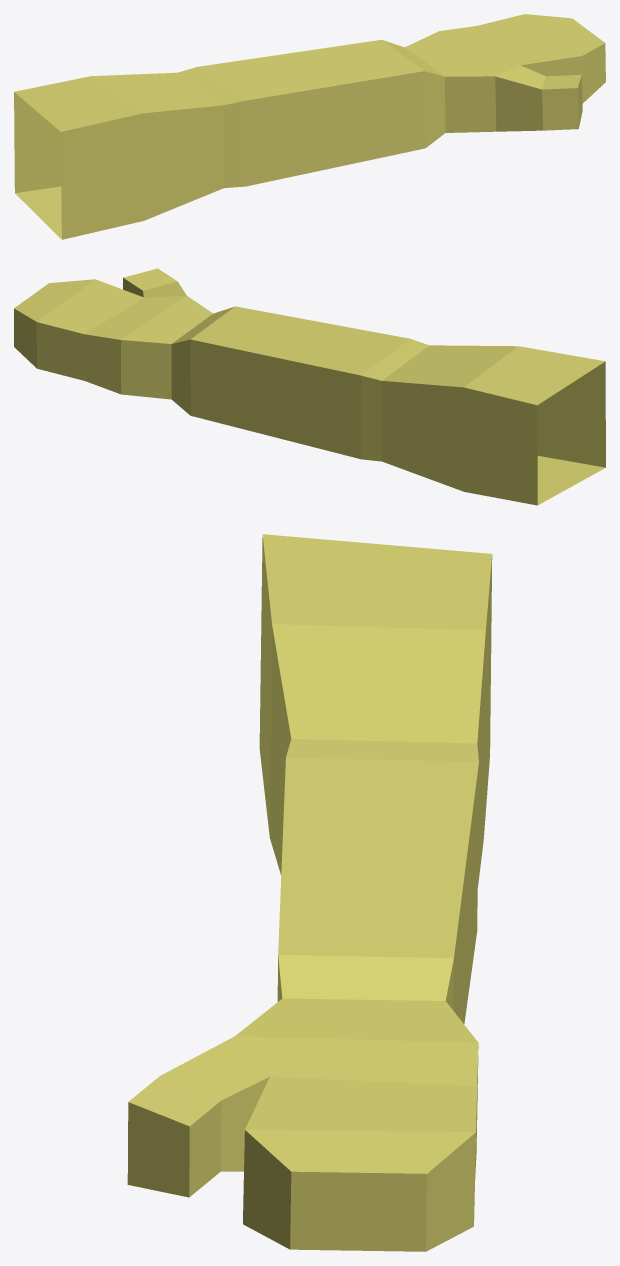
Rendered from Arm.fbx.
3 views of the same model, one above another, from view 1: azimuth 30°, elevation 25°; view 2: azimuth 150°, elevation 25°; view 3: azimuth 270°, elevation 25° (orthographic). The views are drawn at different scales.
Visible parts, largest first — view 1: Body; view 2: Body; view 3: Body.
Part boxes in pixels (bbox=[...]): Body: bbox=[14, 14, 605, 239]; Body: bbox=[14, 268, 605, 505]; Body: bbox=[127, 534, 492, 1251].
Size of the model in its own units: 400 by 77.17 by 115.
